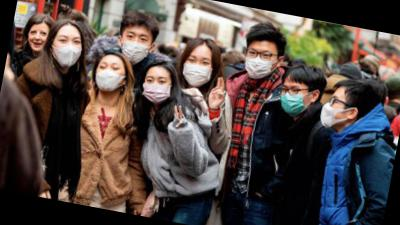with_mask: (242, 44, 280, 84), (118, 28, 155, 67), (277, 82, 313, 119), (180, 51, 215, 89), (316, 91, 349, 131), (49, 31, 83, 69), (139, 71, 175, 106), (94, 59, 128, 93)
without_mask: (26, 26, 52, 53)
